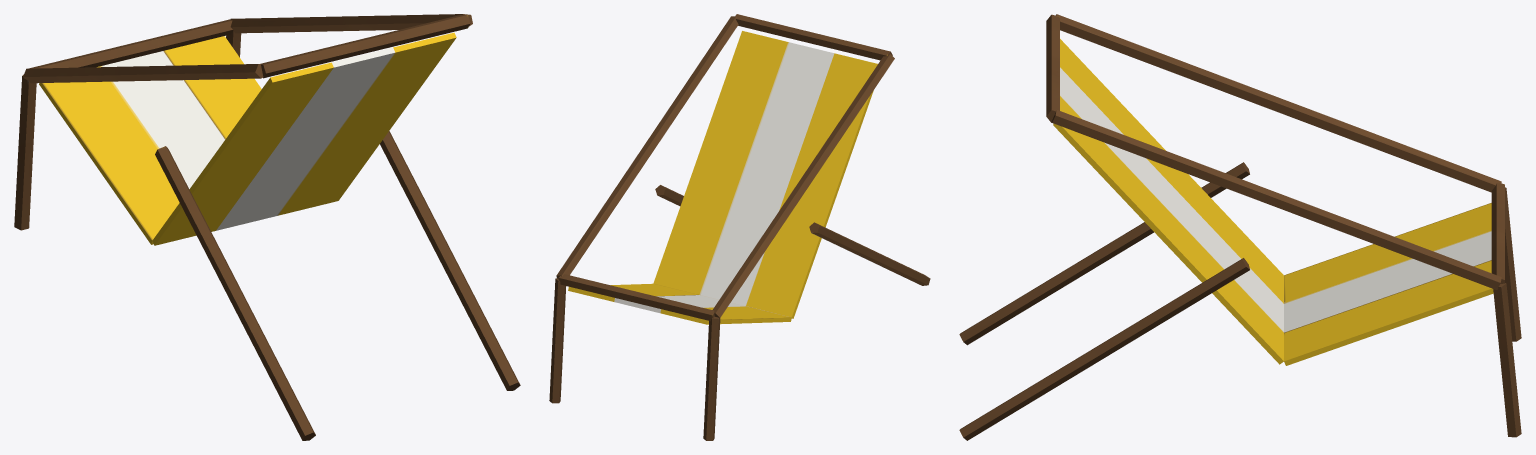
Rendered from lehatko_763dd1a8.glb.
The picture shows the model from 3 angles, left to right: view 1: azimuth 30°, elevation 25°; view 2: azimuth 150°, elevation 25°; view 3: azimuth 270°, elevation 25°; orthographic projection. The views are drawn at different scales.
Parts seen in each view (by area): view 1: dum; view 2: dum; view 3: dum.
Boxes of the visible parts, x1,y1,x2,y2 form: dum: [14, 14, 520, 440]; dum: [549, 14, 930, 440]; dum: [959, 14, 1521, 440].
Bounding box in the file's own units: 0.6384 × 0.9624 × 1.49.
1 material, 1 textured.
